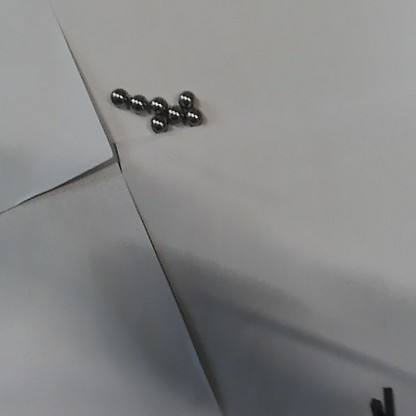ironball: (108, 87, 126, 105), (128, 94, 146, 112), (185, 110, 202, 126), (148, 117, 165, 132), (177, 90, 192, 107), (166, 107, 180, 125), (149, 96, 162, 111)
